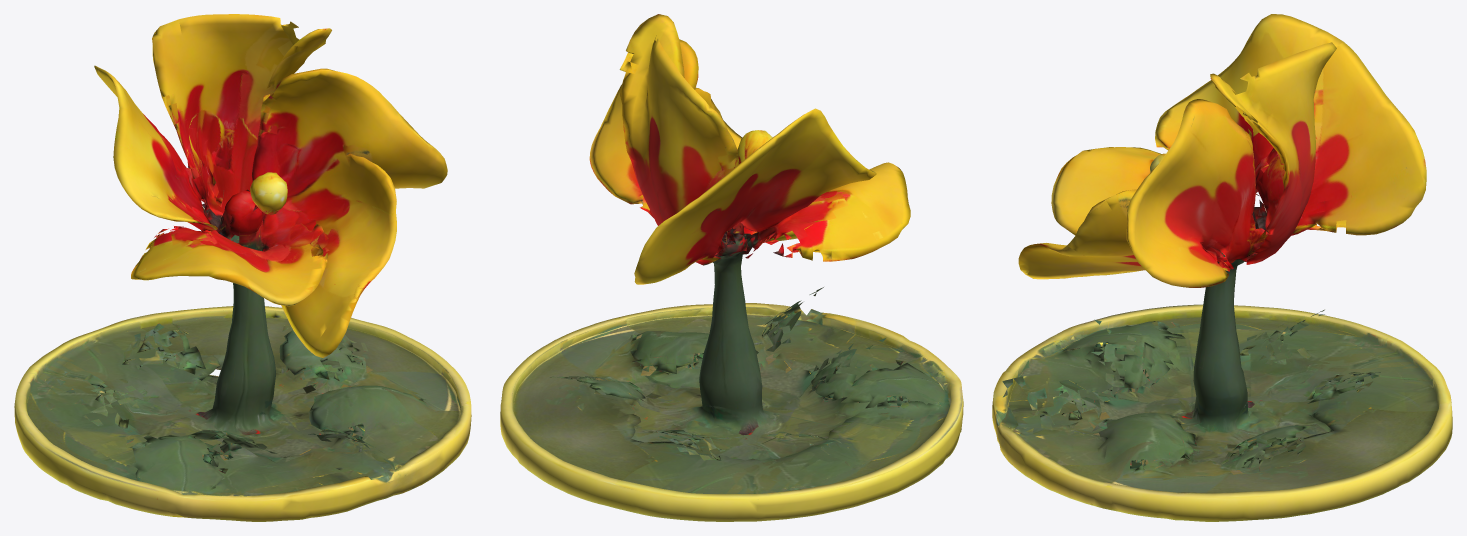
File: FLOWER.glb
The picture shows the model from 3 angles, left to right: view 1: azimuth 30°, elevation 25°; view 2: azimuth 150°, elevation 25°; view 3: azimuth 270°, elevation 25°; orthographic projection.
Parts seen in each view (by area): view 1: Mesh_0.001; view 2: Mesh_0.001; view 3: Mesh_0.001.
Part boxes in pixels (x1=…): Mesh_0.001: x1=14, y1=14, x2=471, y2=521; Mesh_0.001: x1=500, y1=14, x2=963, y2=521; Mesh_0.001: x1=992, y1=14, x2=1452, y2=521.
Size of the model in its own units: 3.75 by 3.73 by 3.76.
Materials: 1 (1 with a texture image).
